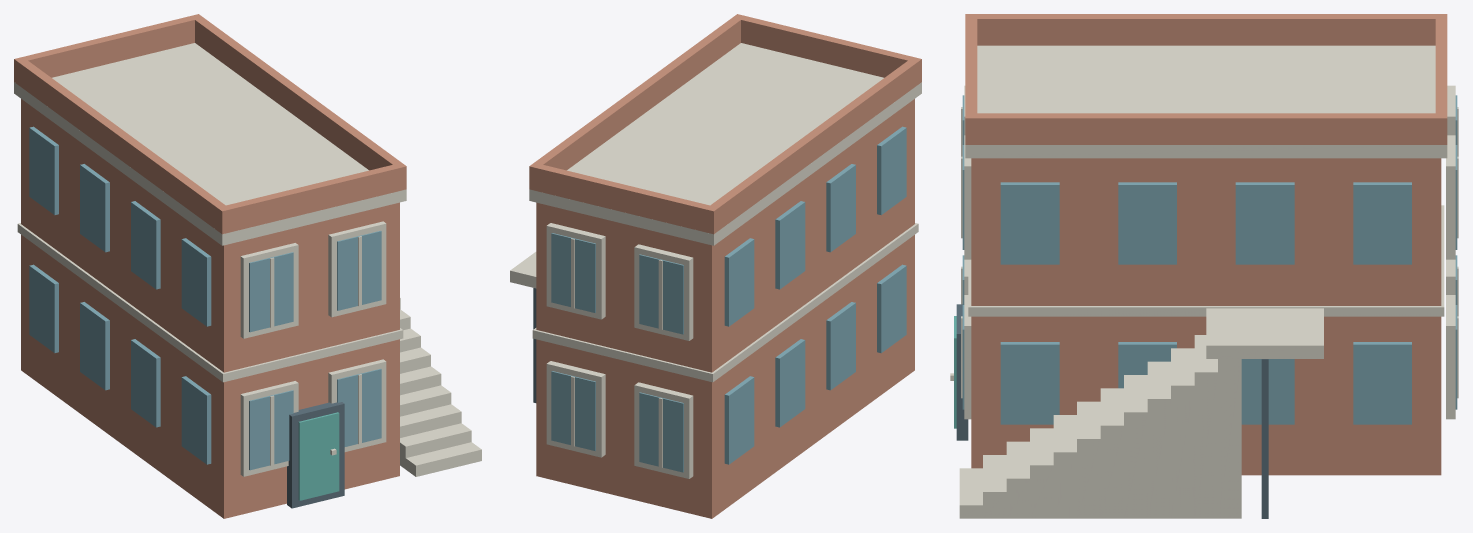
3 views of the same model, side by side, from view 1: azimuth 30°, elevation 25°; view 2: azimuth 150°, elevation 25°; view 3: azimuth 270°, elevation 25° (orthographic). The views are drawn at different scales.
Visible parts, largest first — view 1: maisonette-stair-brick, maisonette-stair-concrete, maisonette-stair-glass, maisonette-stair-accent, maisonette-stair-dark; view 2: maisonette-stair-brick, maisonette-stair-concrete, maisonette-stair-glass; view 3: maisonette-stair-brick, maisonette-stair-concrete, maisonette-stair-glass, maisonette-stair-dark.
Boxes of the visible parts, x1,y1,x2,y2 form: maisonette-stair-brick: [14, 14, 406, 518]; maisonette-stair-concrete: [14, 43, 481, 476]; maisonette-stair-glass: [29, 126, 381, 470]; maisonette-stair-accent: [298, 412, 339, 500]; maisonette-stair-dark: [287, 402, 344, 508]; maisonette-stair-brick: [529, 14, 921, 518]; maisonette-stair-concrete: [510, 43, 921, 478]; maisonette-stair-glass: [551, 126, 906, 472]; maisonette-stair-brick: [965, 14, 1447, 475]; maisonette-stair-concrete: [950, 45, 1458, 518]; maisonette-stair-glass: [962, 95, 1457, 424]; maisonette-stair-dark: [956, 304, 1268, 518].
Bounding box in the file's own units: 5.86 × 6.75 × 8.66.
